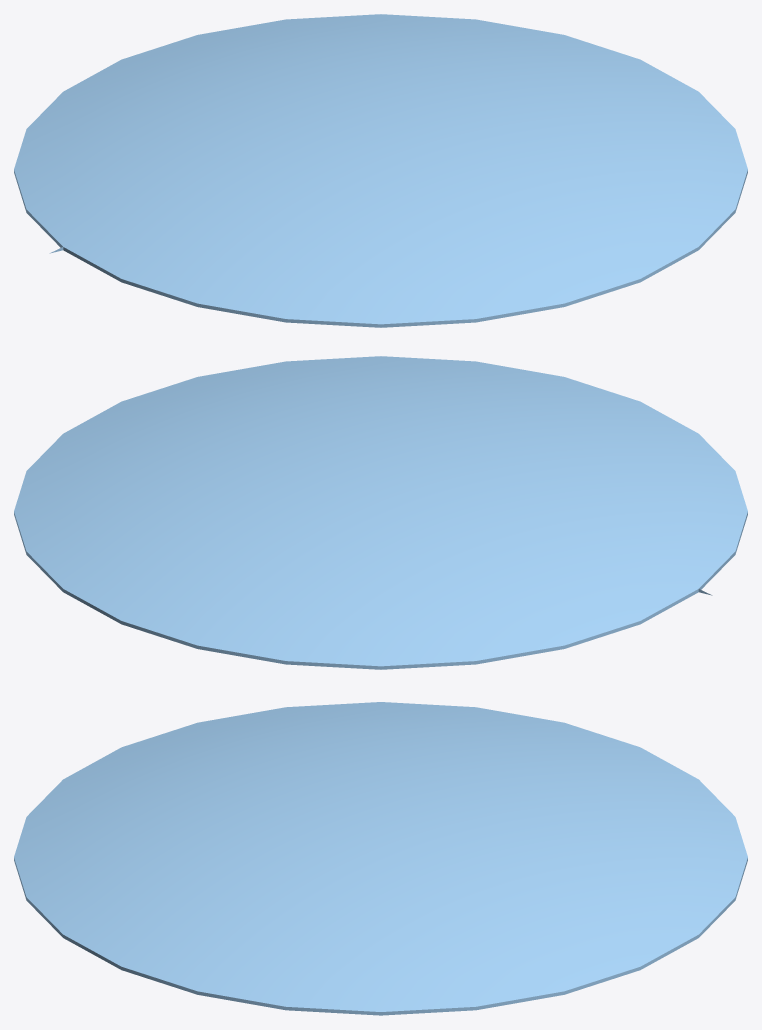
Rendered from compass_top.dae.
3 renders of one model, top to bottom at view 1: azimuth 30°, elevation 25°; view 2: azimuth 150°, elevation 25°; view 3: azimuth 270°, elevation 25°, orthographic.
Visible parts, largest first — view 1: group_0; view 2: group_0; view 3: group_0.
Boxes of the visible parts, x1,y1,x2,y2 form: group_0: (14,14,747,327); group_0: (14,356,747,669); group_0: (14,702,747,1015).
Bounding box in the file's own units: 319 × 312 × 20.38.
